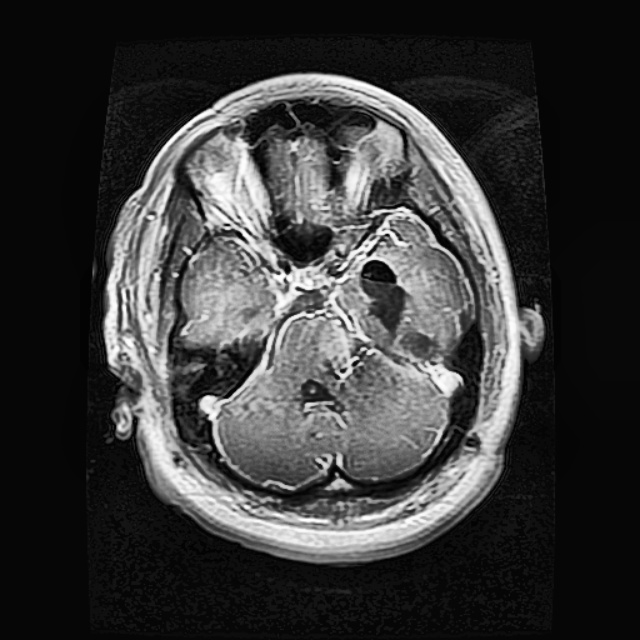Glioma: (355, 257, 403, 330)
